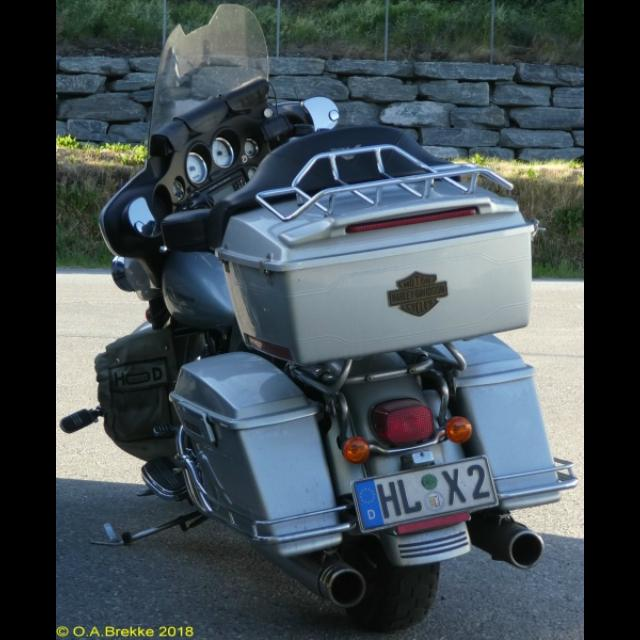d_license_plate: (349, 456, 496, 530)
